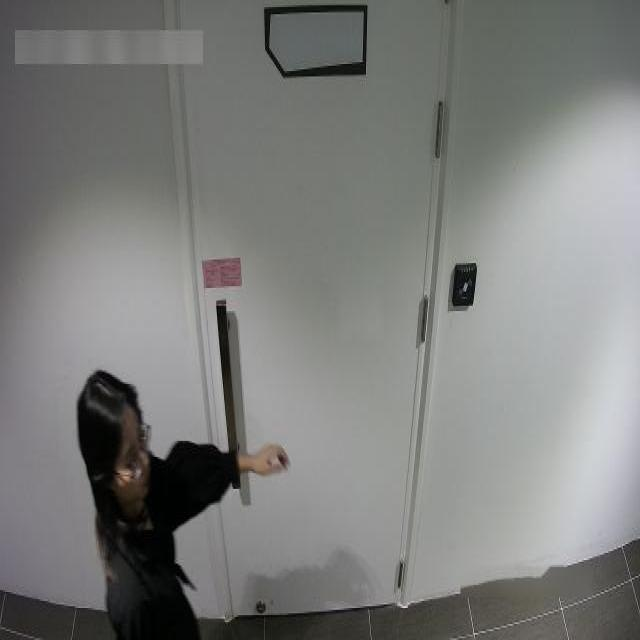bare_hand: (246, 428, 302, 498)
